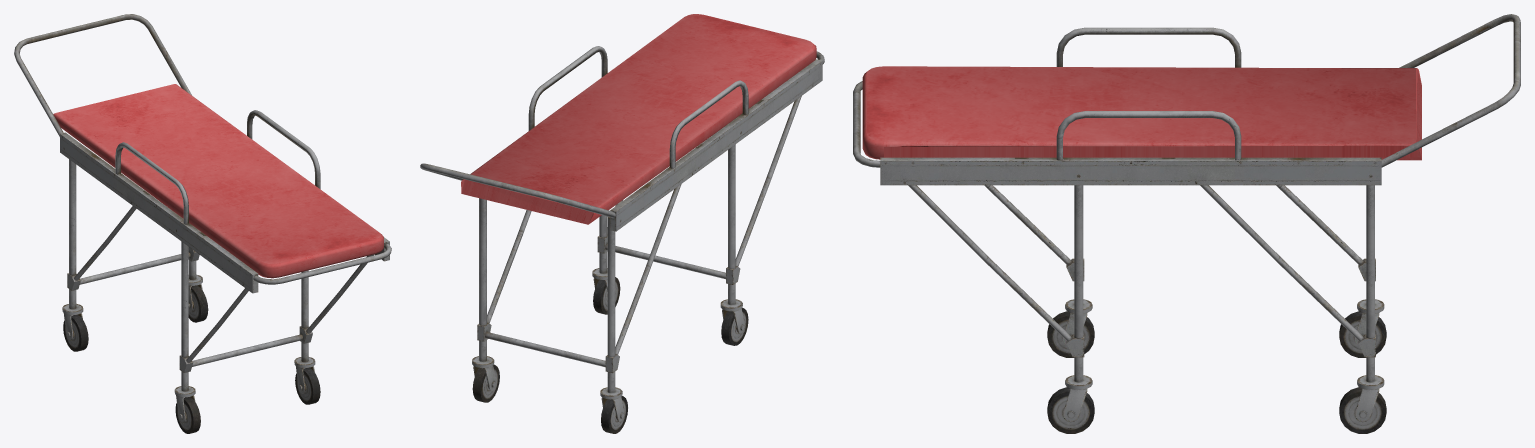
The model's file is hospital_stretcher_trolley.glb.
3 views of the same model, side by side, from view 1: azimuth 30°, elevation 25°; view 2: azimuth 150°, elevation 25°; view 3: azimuth 270°, elevation 25° (orthographic). The views are drawn at different scales.
Visible parts, largest first — view 1: Stretcher_Material #82_0; view 2: Stretcher_Material #82_0; view 3: Stretcher_Material #82_0.
Part boxes in pixels (x1,y1,x2,y2): Stretcher_Material #82_0: [14, 14, 391, 433]; Stretcher_Material #82_0: [420, 14, 824, 433]; Stretcher_Material #82_0: [853, 14, 1520, 433].
Size of the model in its own units: 1.55 by 2.85 by 5.01.
Materials: 1 (1 with a texture image).
